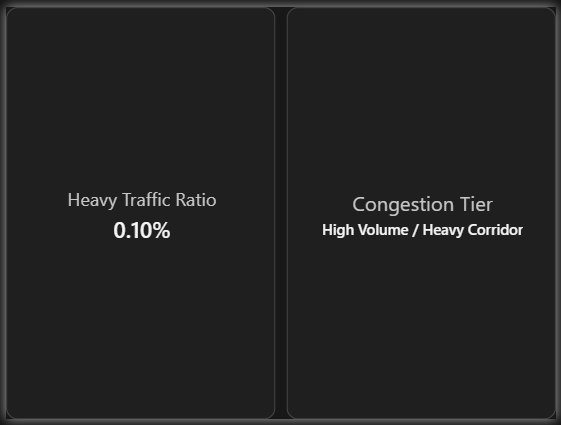

The page's visual inventory and layout, read from the dashboard file:
{"tool":"powerbi","page":{"name":"Tooltip page","canvas":[400,300],"ordinal":1},"visuals":[{"type":"cardVisual","fields":{"Data":["Average_Daily_Traffic_Counts.Heavy_Traffic_Ratio","Min(Average_Daily_Traffic_Counts.Congestion_Tier)"]},"box":[0,0,400,300],"z":0}]}

Visuals, with their boxes in screenshot pixels (x1, y1, x2, y2), scaled from the page's 400x300 canvas onto the 561x425 screenshot:
cardVisual - Average_Daily_Traffic_Counts.Heavy_Traffic_Ratio x Min(Average_Daily_Traffic_Counts.Congestion_Tier): locate(0, 0, 560, 424)
